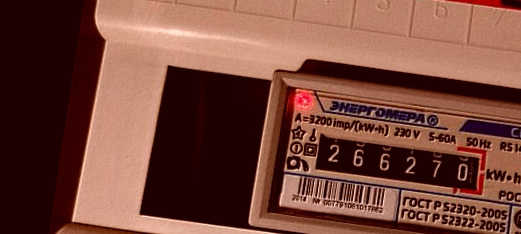0: (455, 161, 470, 183)
2: (325, 143, 343, 165), (402, 154, 419, 176)
6: (350, 147, 366, 169), (377, 152, 393, 173)
7: (428, 158, 443, 179)
screen: (305, 122, 495, 202)
